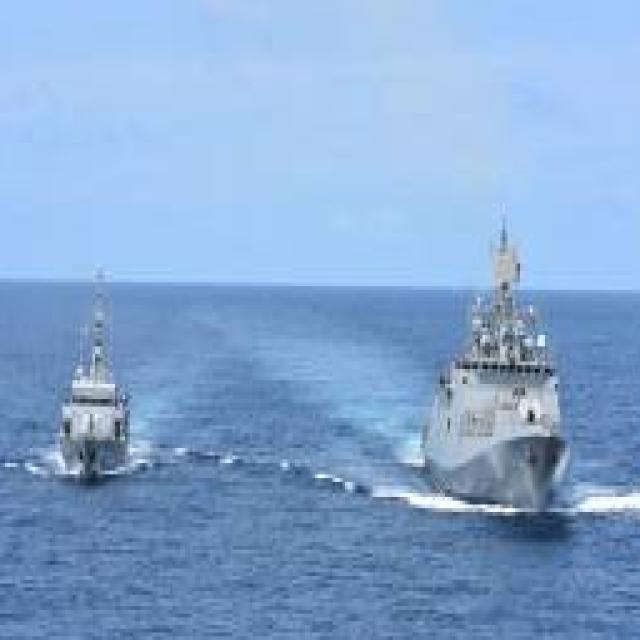navalvessels: (401, 226, 585, 517), (61, 267, 156, 477)
